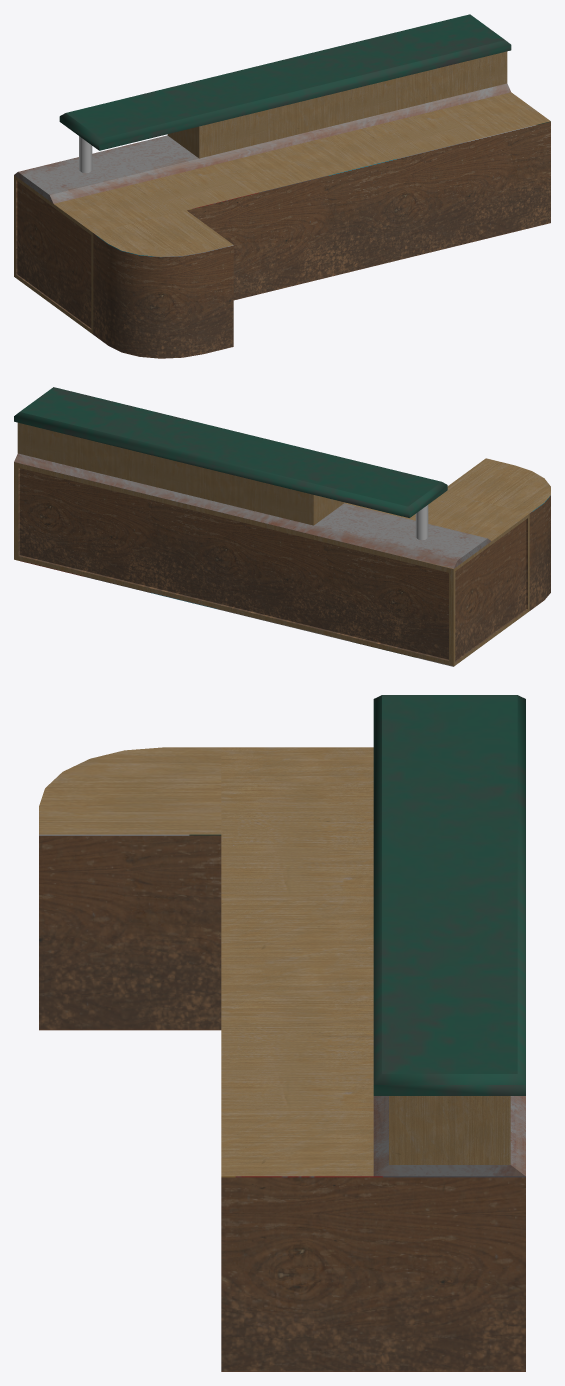
Rendered from ReceptionTable.fbx.
The picture shows the model from 3 angles, top to bottom: view 1: azimuth 30°, elevation 25°; view 2: azimuth 150°, elevation 25°; view 3: azimuth 270°, elevation 25°; orthographic projection. The views are drawn at different scales.
Parts seen in each view (by area): view 1: ReceptionTable; view 2: ReceptionTable; view 3: ReceptionTable.
Part boxes in pixels (left/top/right/bottom): ReceptionTable: left=14, top=14, right=550, bottom=358; ReceptionTable: left=14, top=387, right=550, bottom=666; ReceptionTable: left=39, top=695, right=525, bottom=1371.
Bounding box in the file's own units: 400 × 128 × 192.
